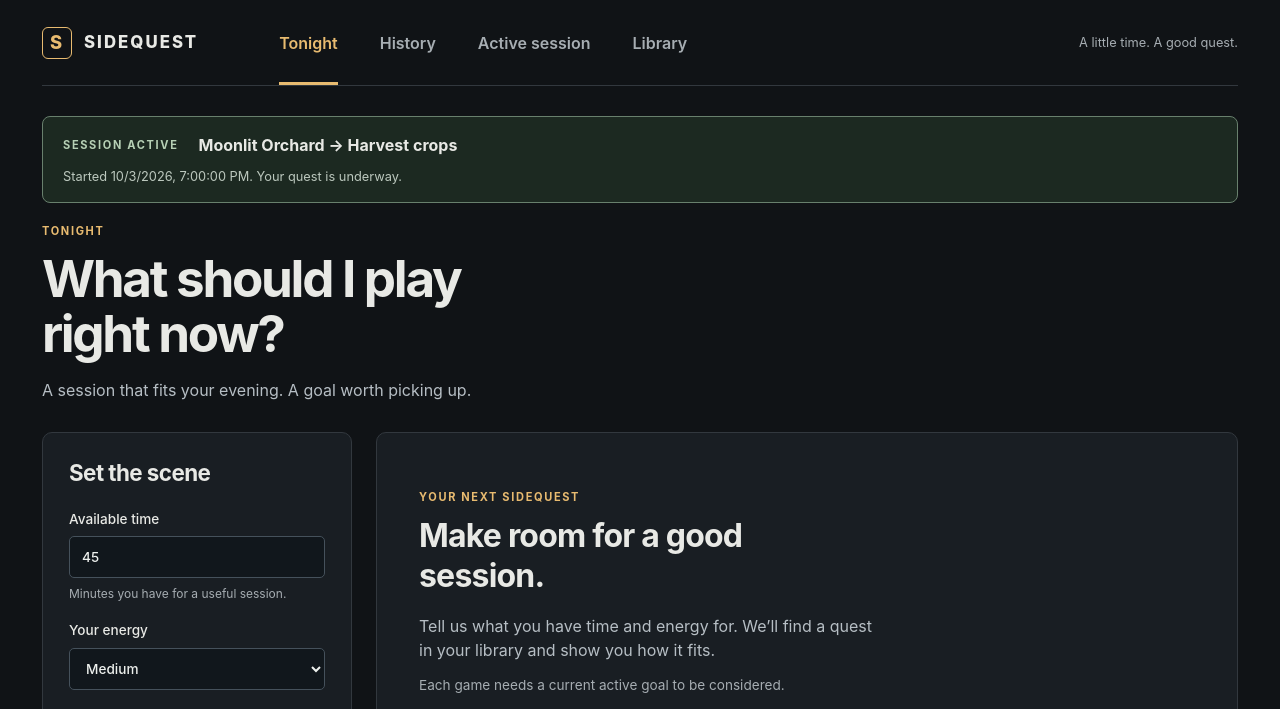
it: Active and finish › suggests elapsed minutes but accepts edited actual duration
The width and height of the screenshot is (1280, 709).
Click the button "Active session": x=534, y=42 [462,0,607,85]
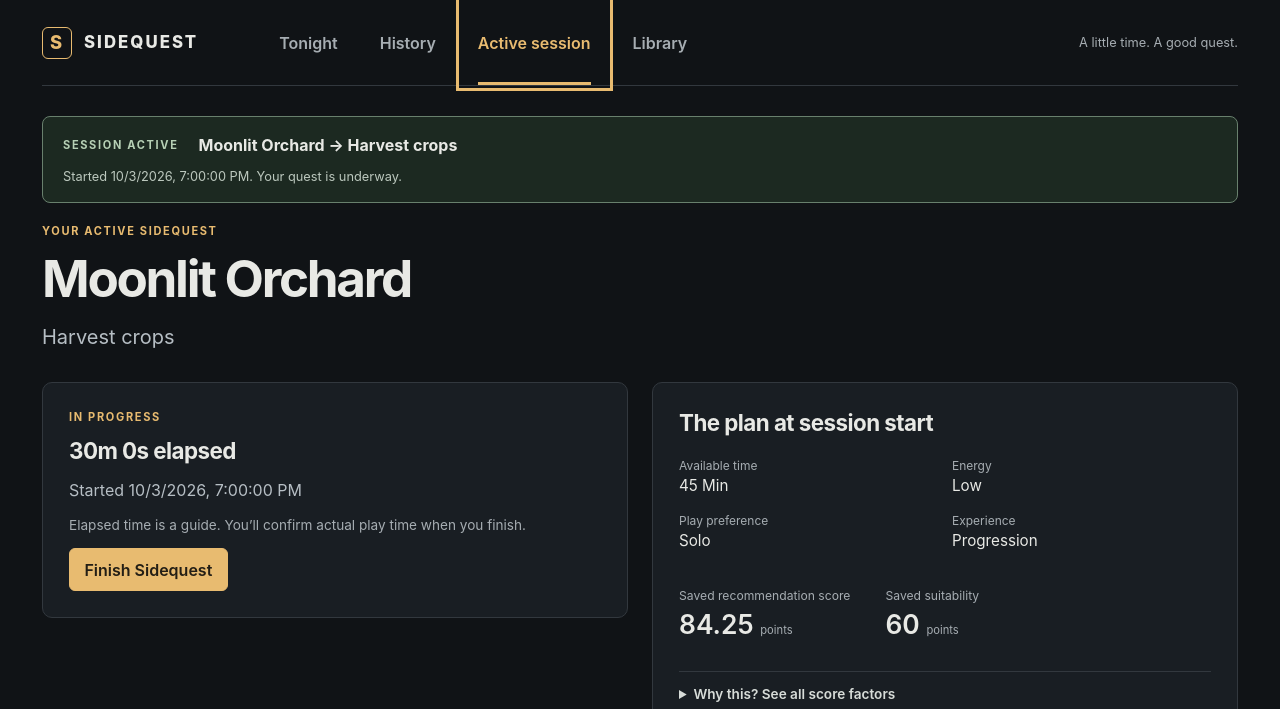
Click the button "Finish Sidequest": x=148, y=570 [69,548,228,591]
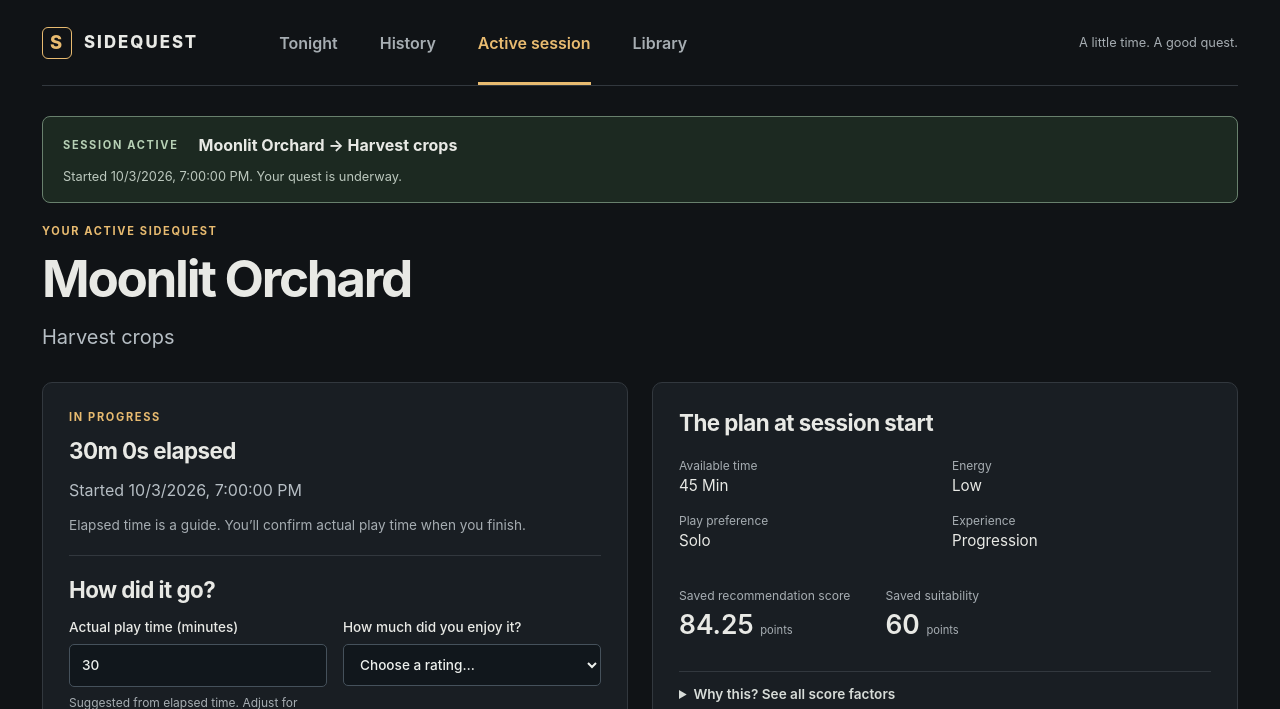
Select "3 · Okay" in the dropdown labelled "How much did you enjoy it?": x=472, y=665 [343,644,601,686]
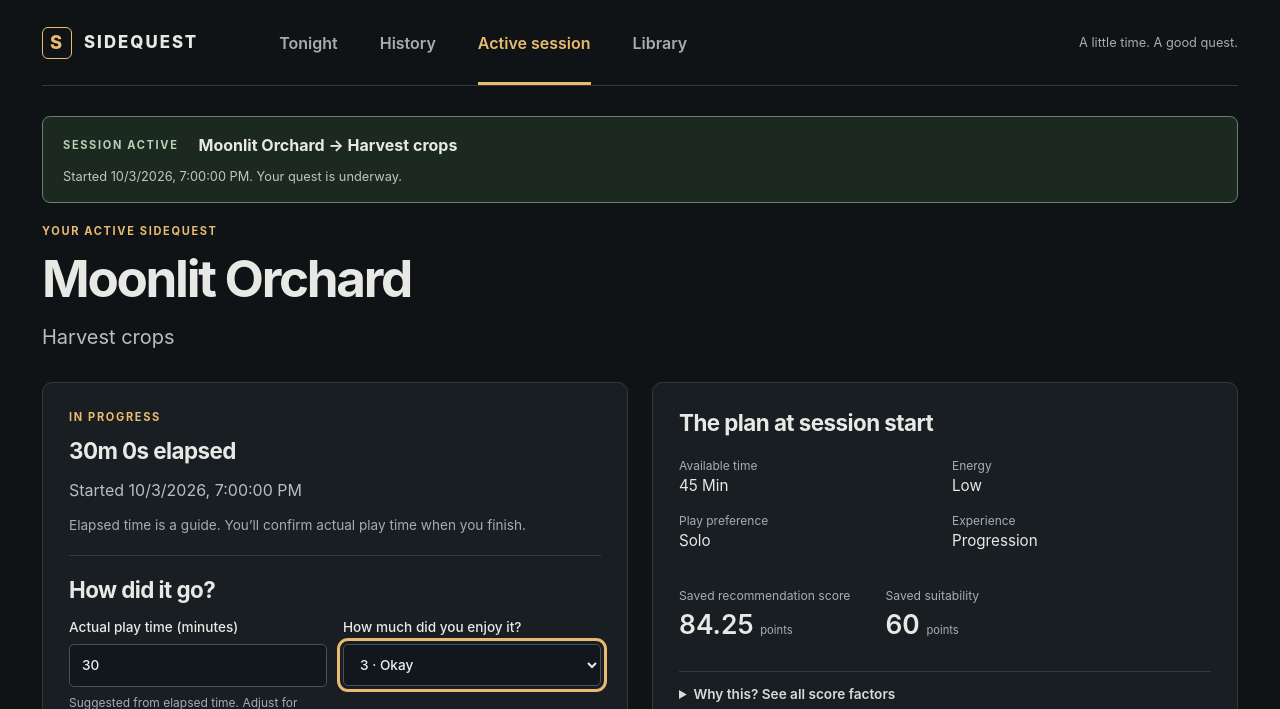
Now the number field labelled "Actual play time (minutes)" holds "30"
Replace the text in the number field labelled "Actual play time (minutes)" with "18": x=198, y=665 [69,644,327,687]
(page scrolled)
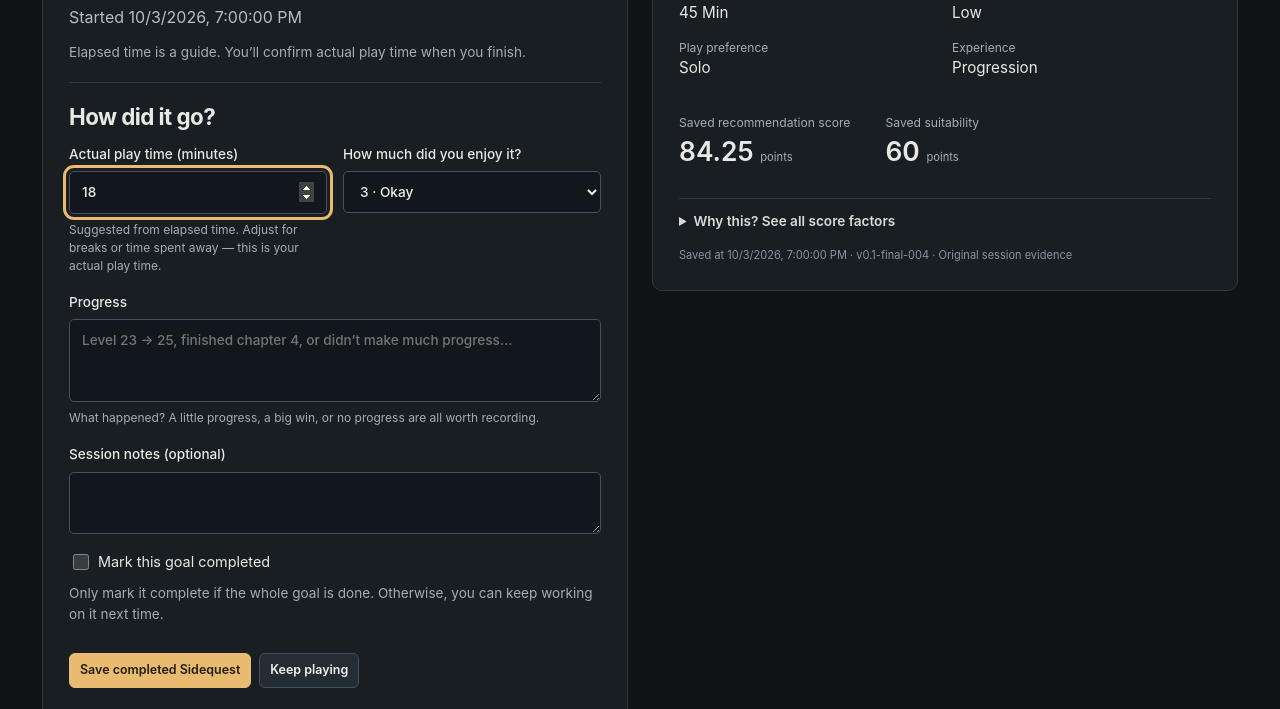
In the text box labelled "Progress": x=335, y=360 [69,319,601,402], type "Level 23 → 25"
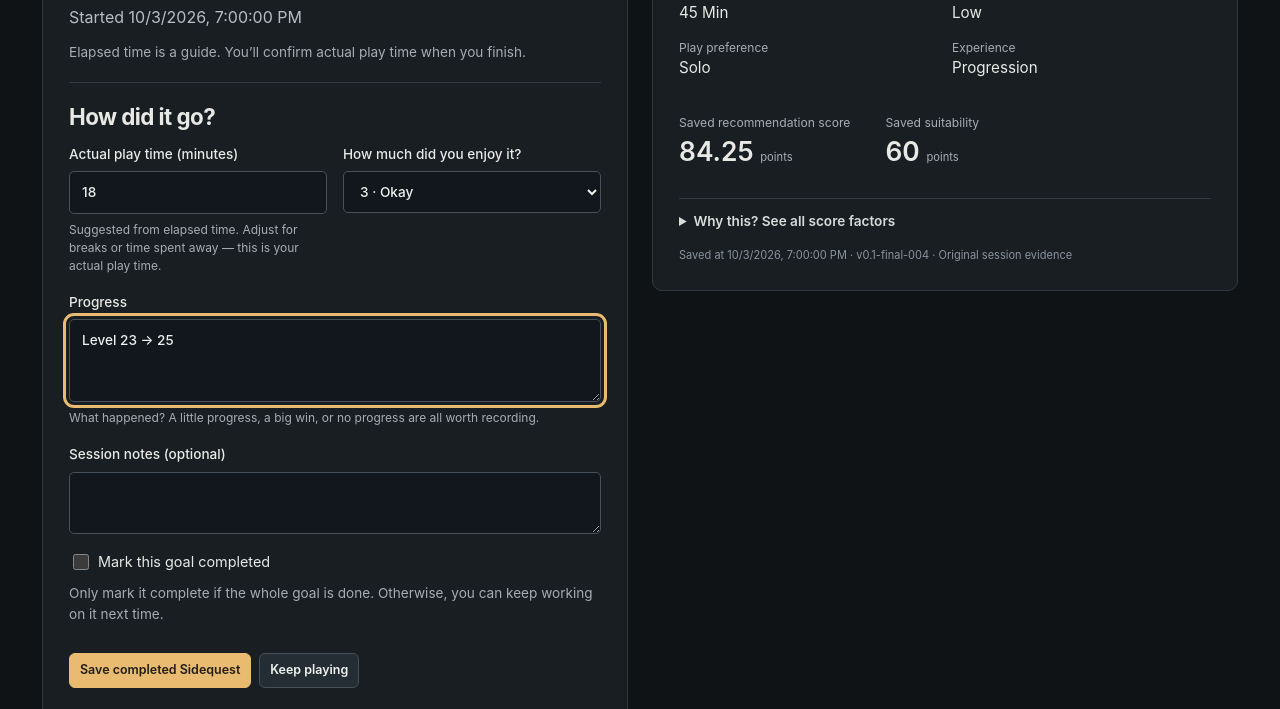
Click the button "Save completed Sidequest": x=160, y=670 [69,653,251,688]
(page scrolled)
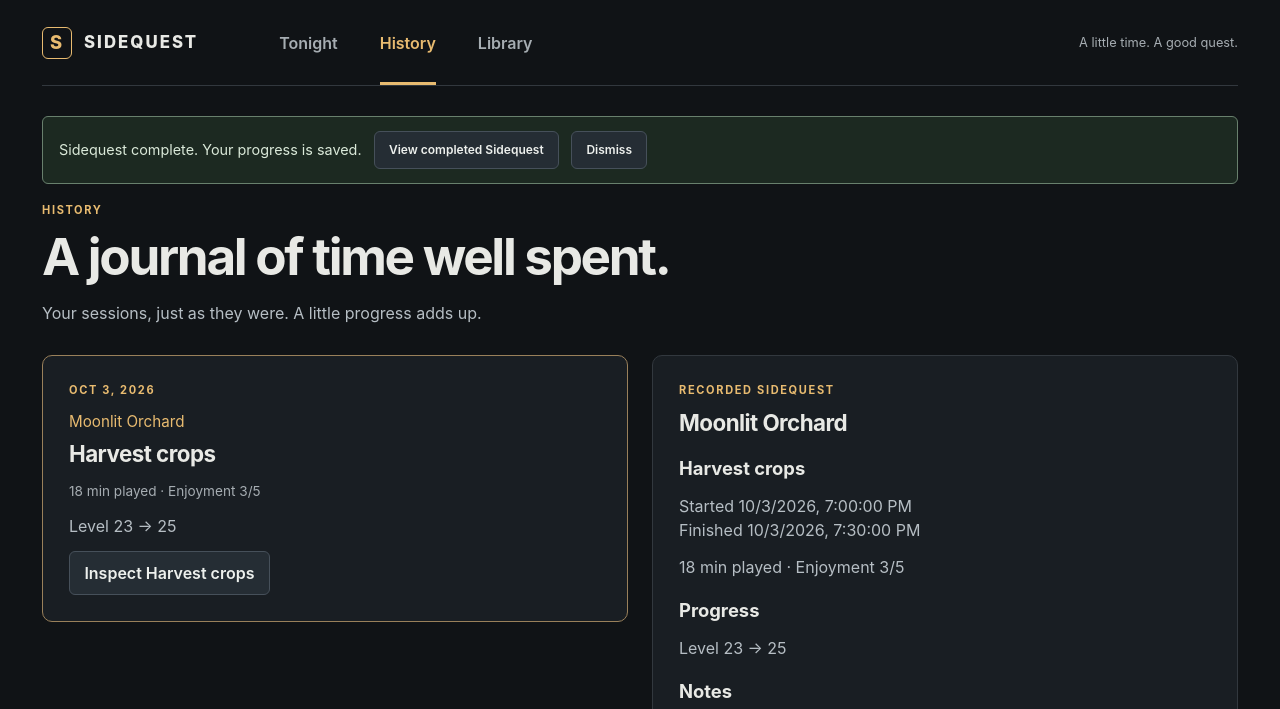
Now the text "Sidequest complete. Your progress is saved." is shown, box [59,141,362,158]
